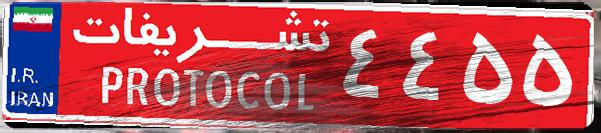4: (340, 20, 400, 115), (400, 20, 460, 115)
5: (460, 20, 520, 115), (520, 20, 580, 115)
تشریفات: (60, 8, 340, 125)
